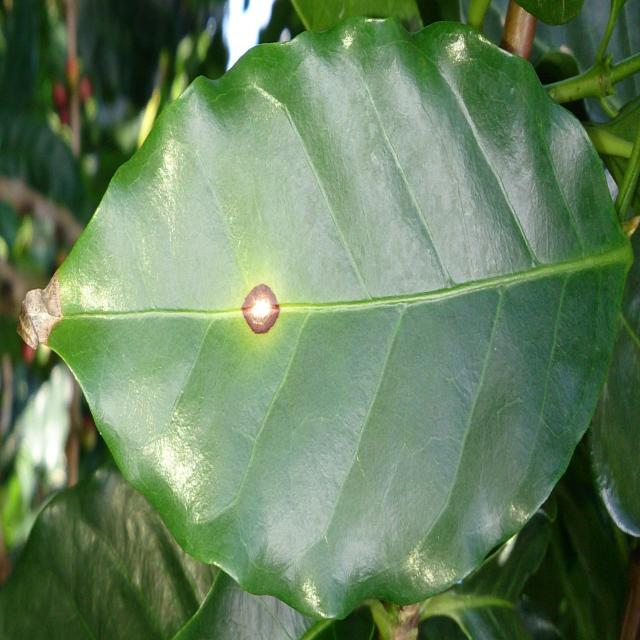Enfermedad-Mancha-de-hierro: (41, 18, 633, 610)
